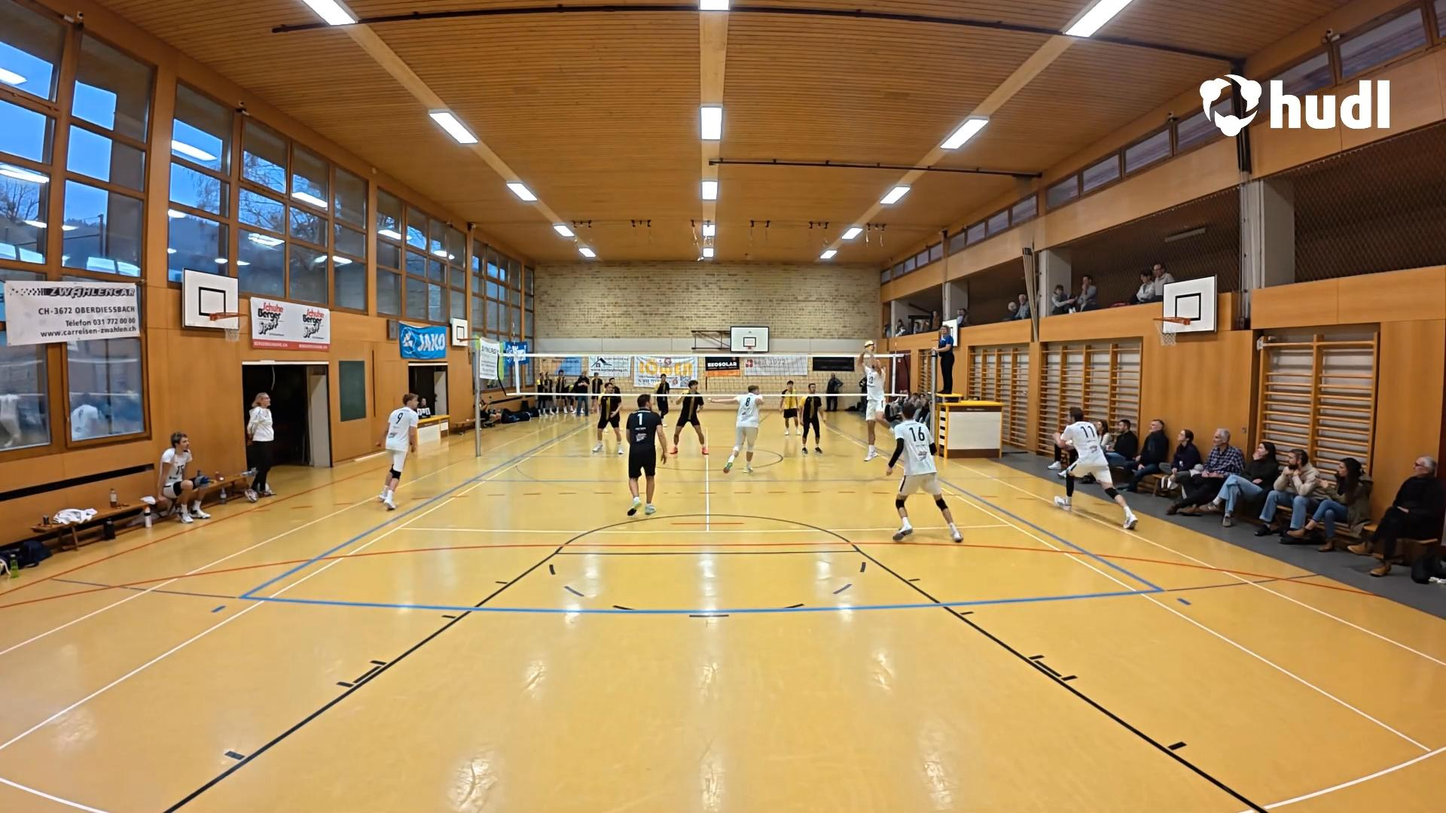alzata: (855, 336, 895, 462)
